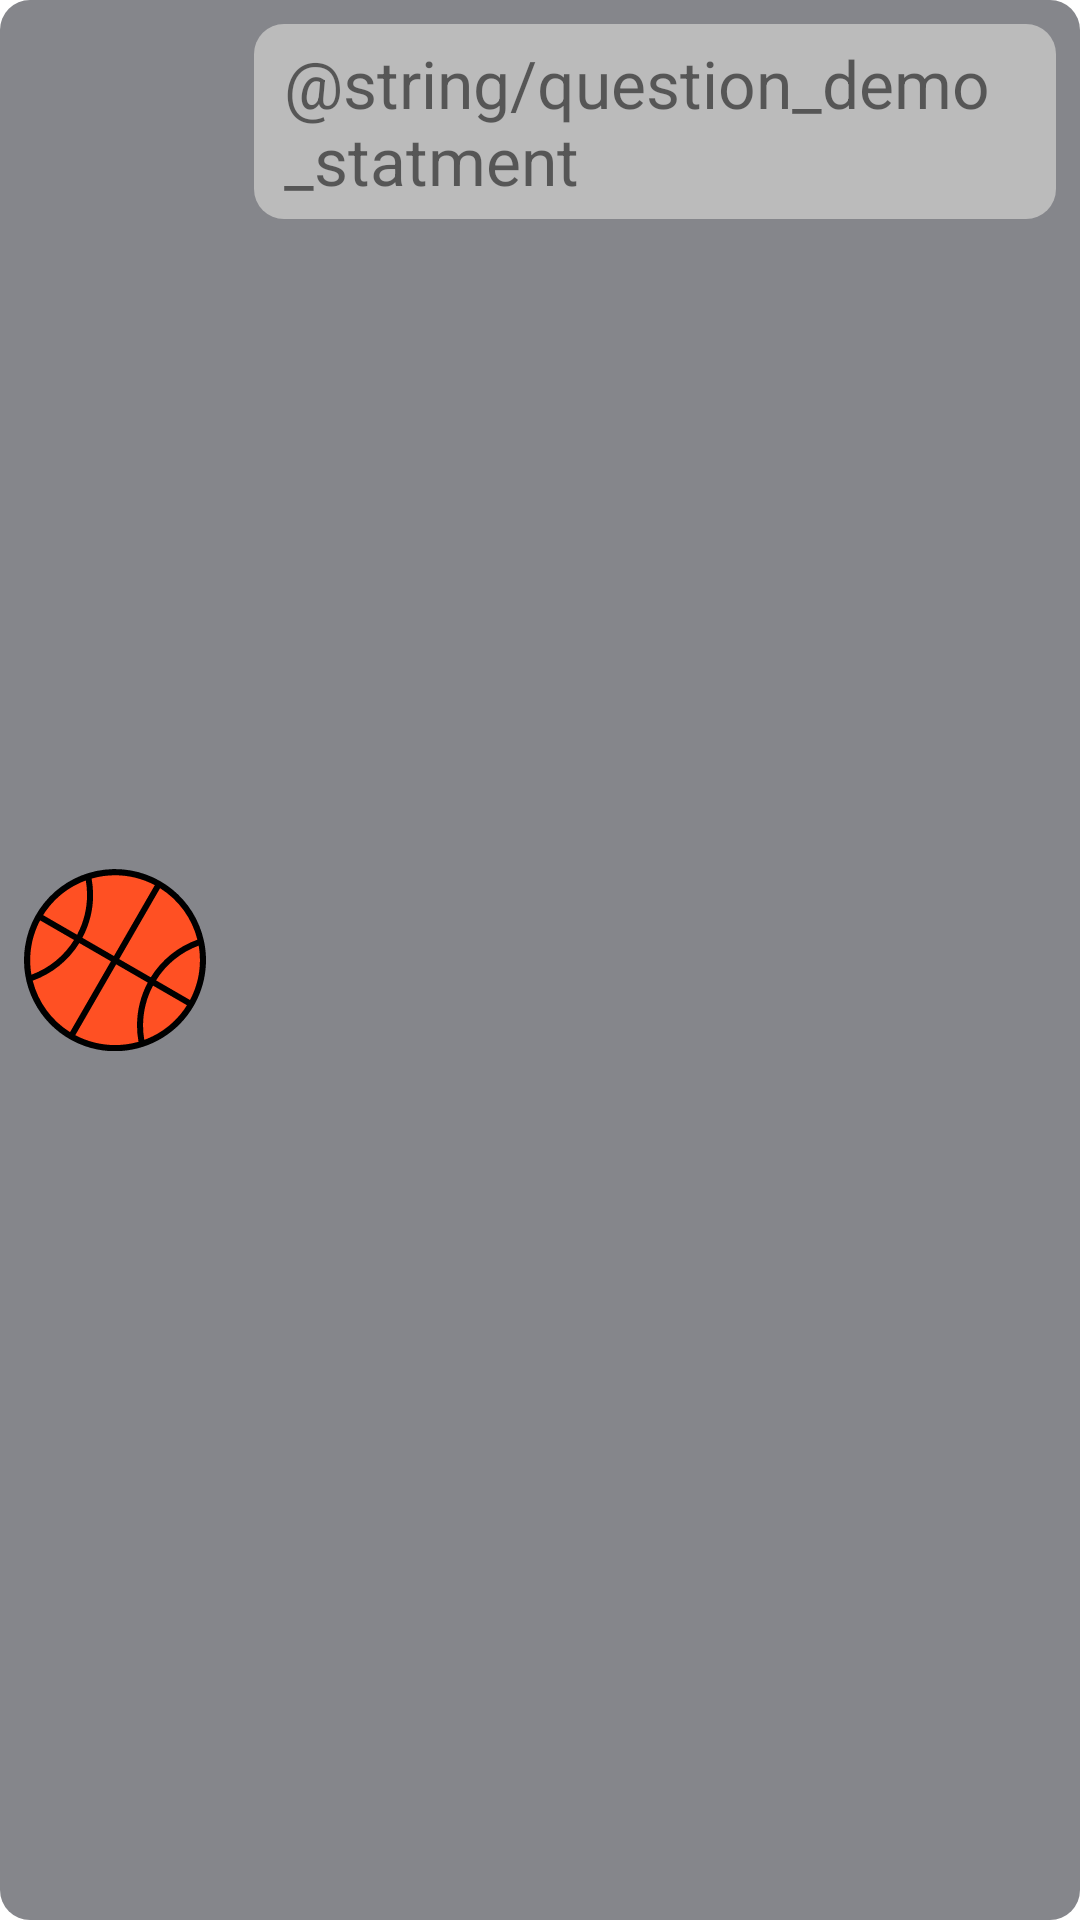

Named icons in this screenshot (1080w x 1920h) and their centers, (x=x, y=y):
baloncesto: (x=115, y=960)
